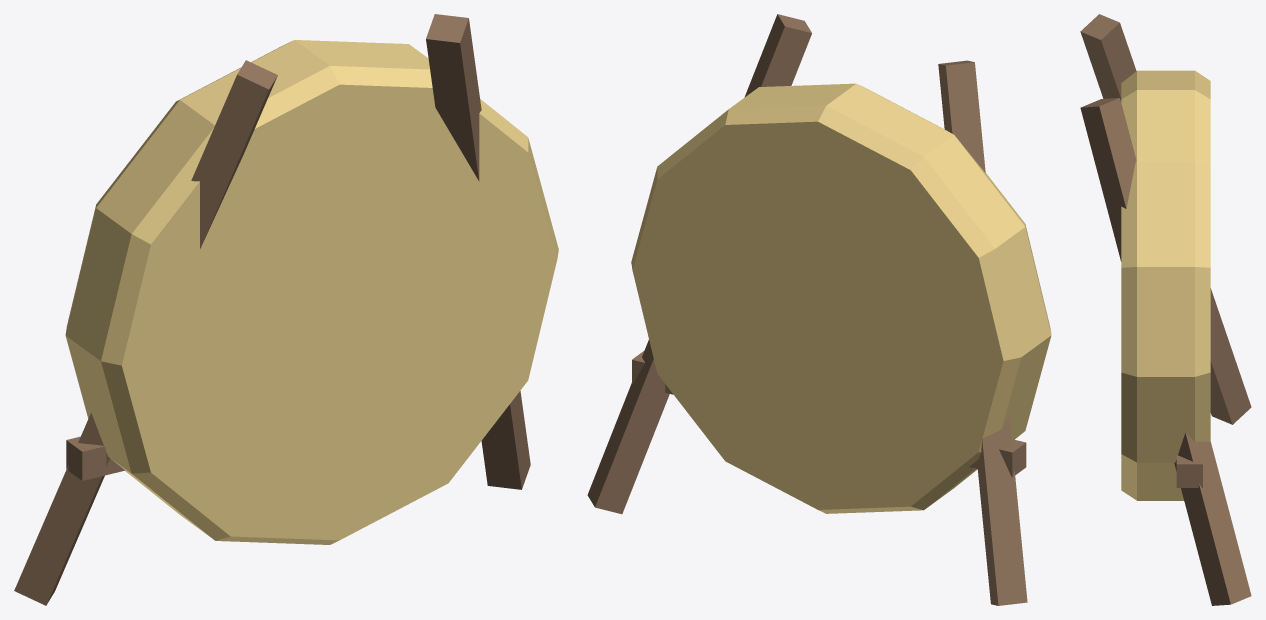
Rendered from town_straw_target.glb.
3 views of the same model, side by side, from view 1: azimuth 30°, elevation 25°; view 2: azimuth 150°, elevation 25°; view 3: azimuth 270°, elevation 25° (orthographic). The views are drawn at different scales.
Parts seen in each view (by area): view 1: world; view 2: world; view 3: world.
Part boxes in pixels (x1,y1,x2,y2): world: [14, 14, 558, 605]; world: [587, 14, 1051, 605]; world: [1080, 14, 1251, 605].
Bounding box in the file's own units: 1.96 × 2 × 0.6883.
